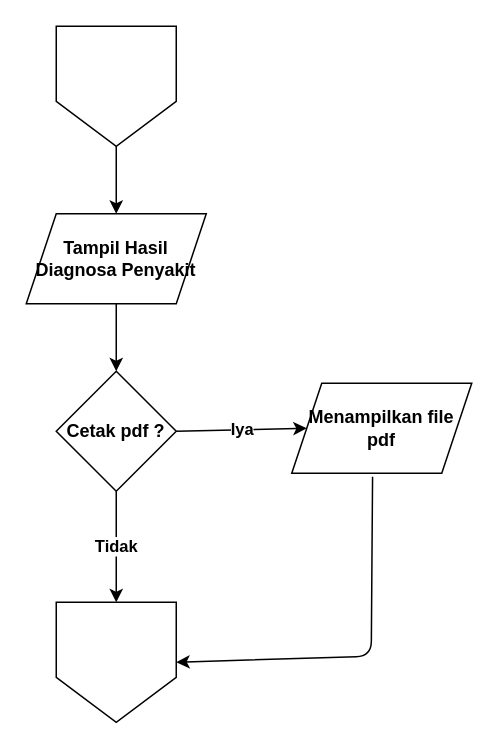
This 498x749 diagram has some shape labels left out. The shapes that lost their labels are listed below. From the top down, each one's centre as x and y in pixels, then its label:
the point at 115,85: Halaman Hasil Diagnosa
the point at 115,661: Halaman Dashboard
